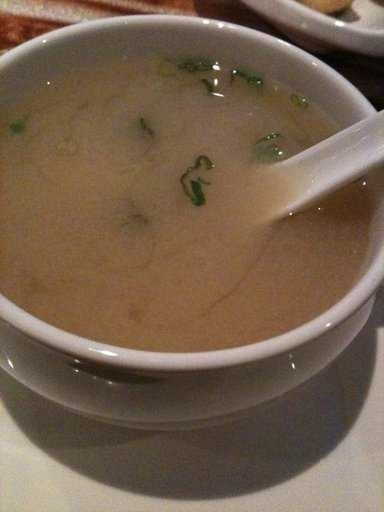soup: (12, 35, 371, 358)
